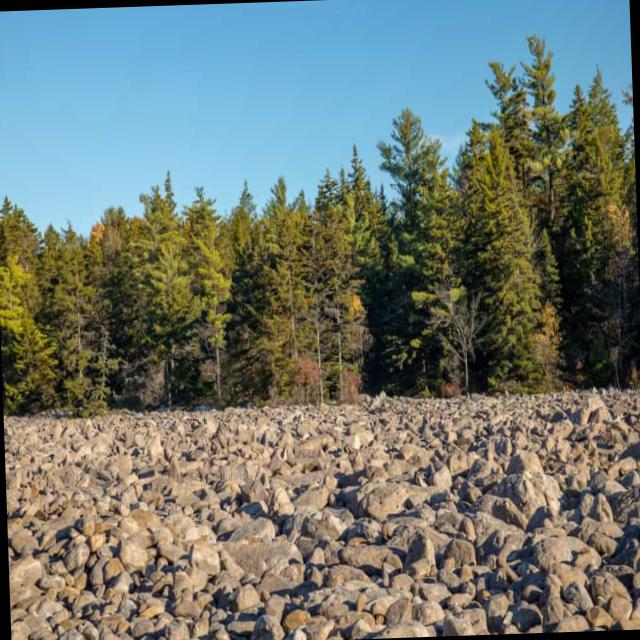stone: (3, 388, 640, 640)
